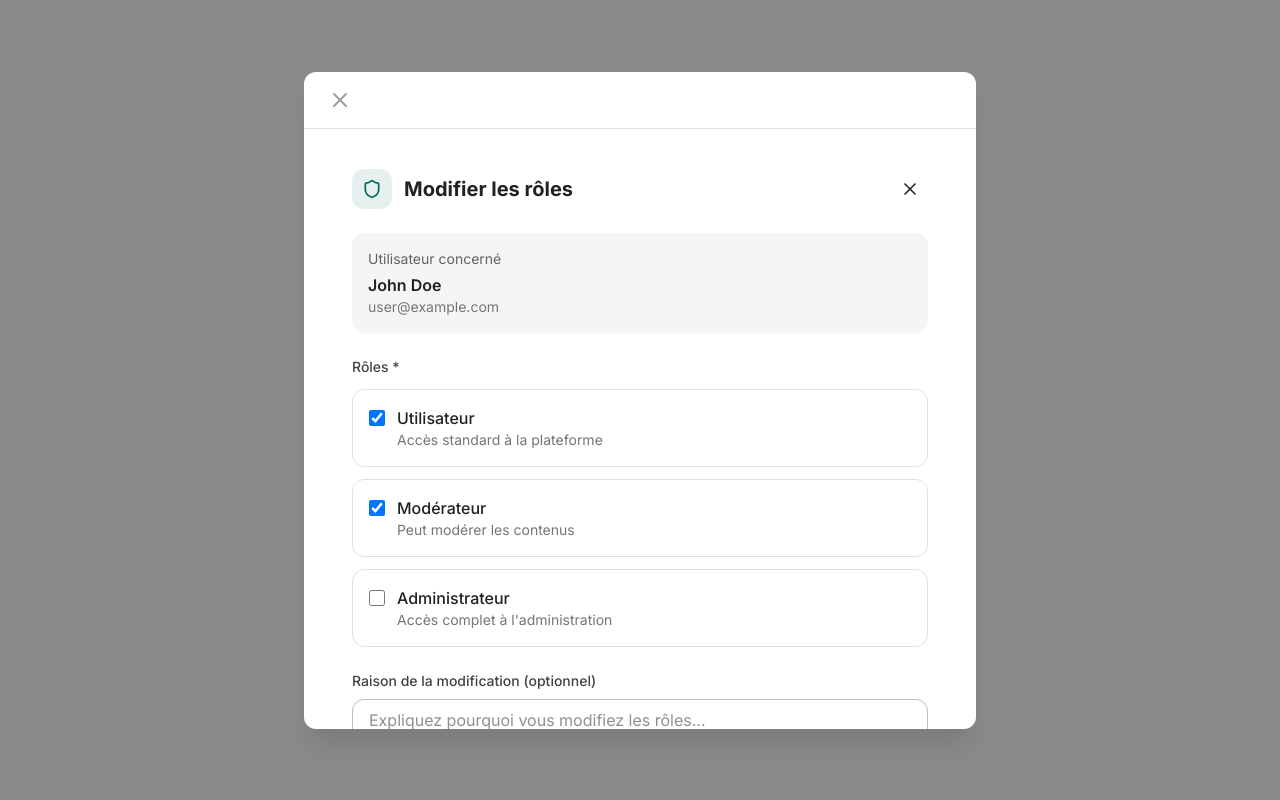
Scenario: UpdateRolesModal - logique metier › refuse la combinaison admin + moderateur simultanee
The width and height of the screenshot is (1280, 800).
Click the checkbox labelled "Administrateur Accès complet à l'administration" at (377, 598), box left=369, top=590, right=385, bottom=606
(page scrolled)
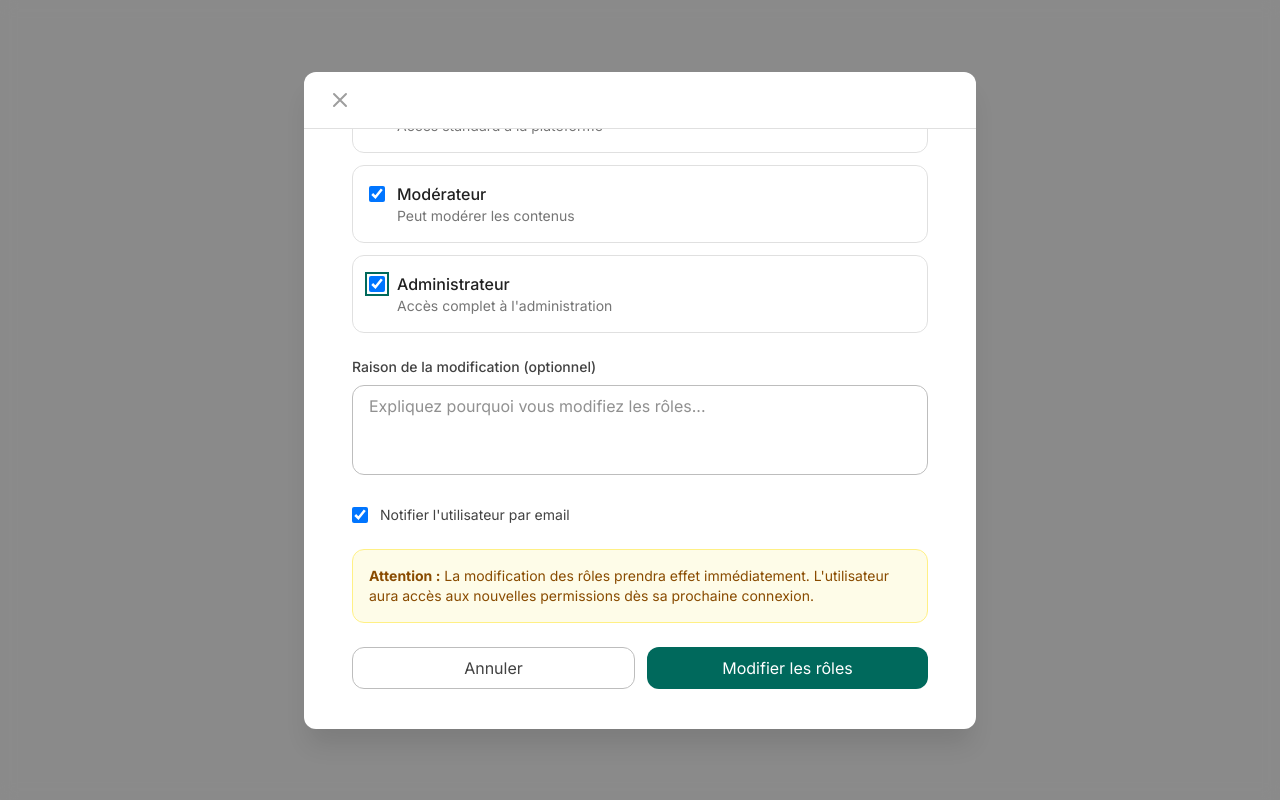
Click the button "Modifier les rôles" at (788, 668), box left=647, top=646, right=928, bottom=688
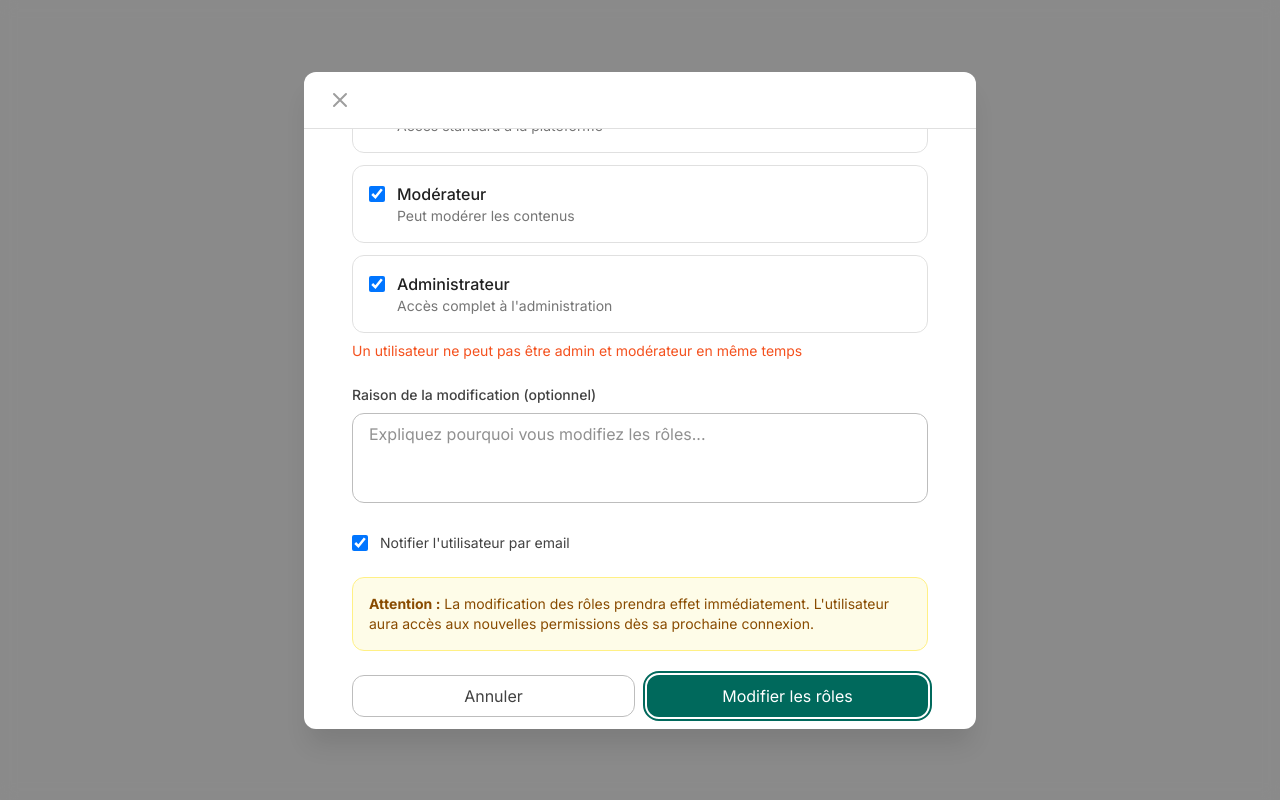
Result: the text "ne peut pas être admin et modérateur en même temps" is shown at left=352, top=342, right=802, bottom=358
